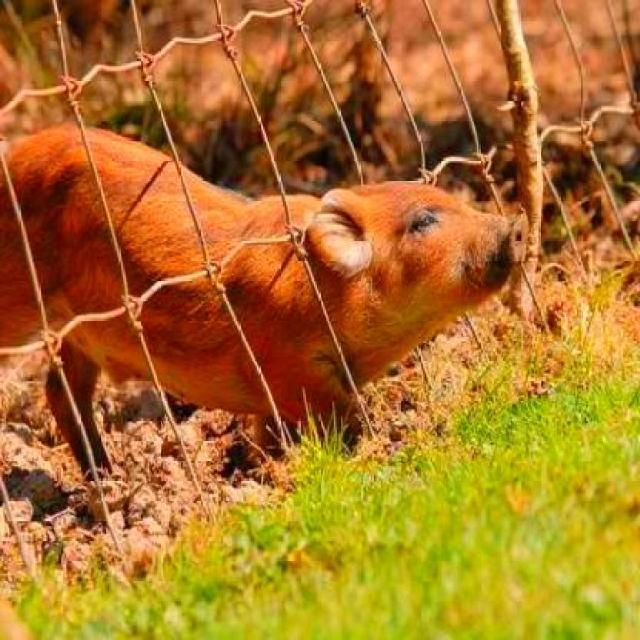Boar: (0, 132, 582, 474)
